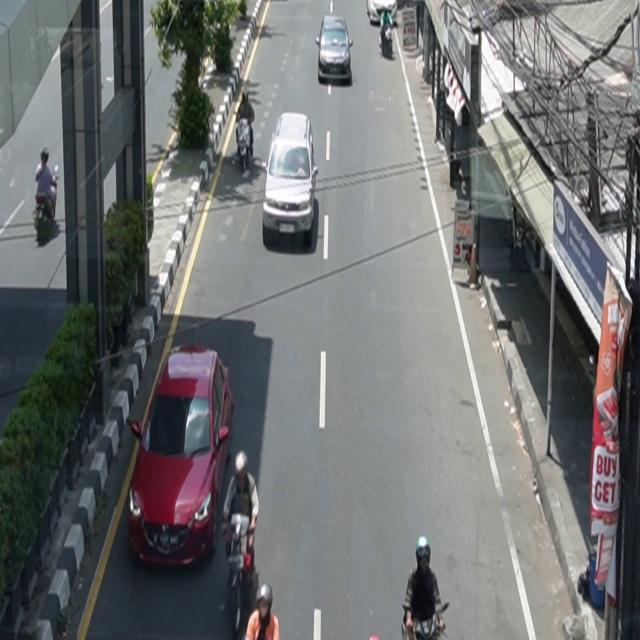car: (128, 345, 235, 569), (263, 112, 319, 247), (316, 14, 354, 82)
